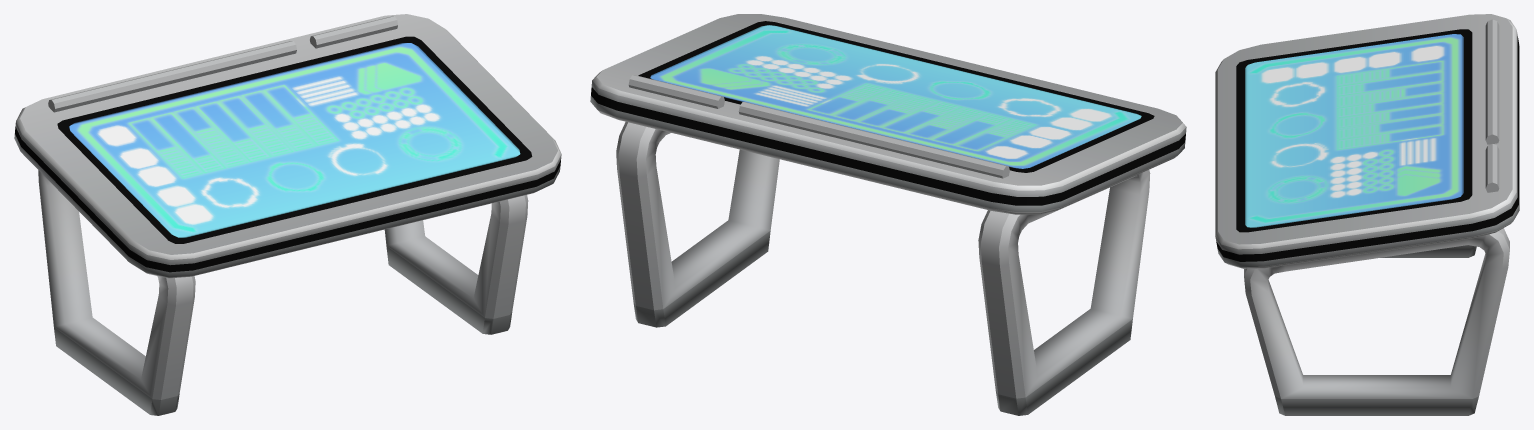
Rendered from Terminal_017.fbx.
3 renders of one model, left to right at view 1: azimuth 30°, elevation 25°; view 2: azimuth 150°, elevation 25°; view 3: azimuth 270°, elevation 25°, orthographic. The views are drawn at different scales.
Visible parts, largest first — view 1: Terminal_017; view 2: Terminal_017; view 3: Terminal_017.
Part boxes in pixels (left/top/right/bottom): Terminal_017: left=14, top=14, right=561, bottom=415; Terminal_017: left=590, top=14, right=1186, bottom=415; Terminal_017: left=1215, top=14, right=1519, bottom=415.
Bounding box in the file's own units: 161 × 102 × 84.92.
